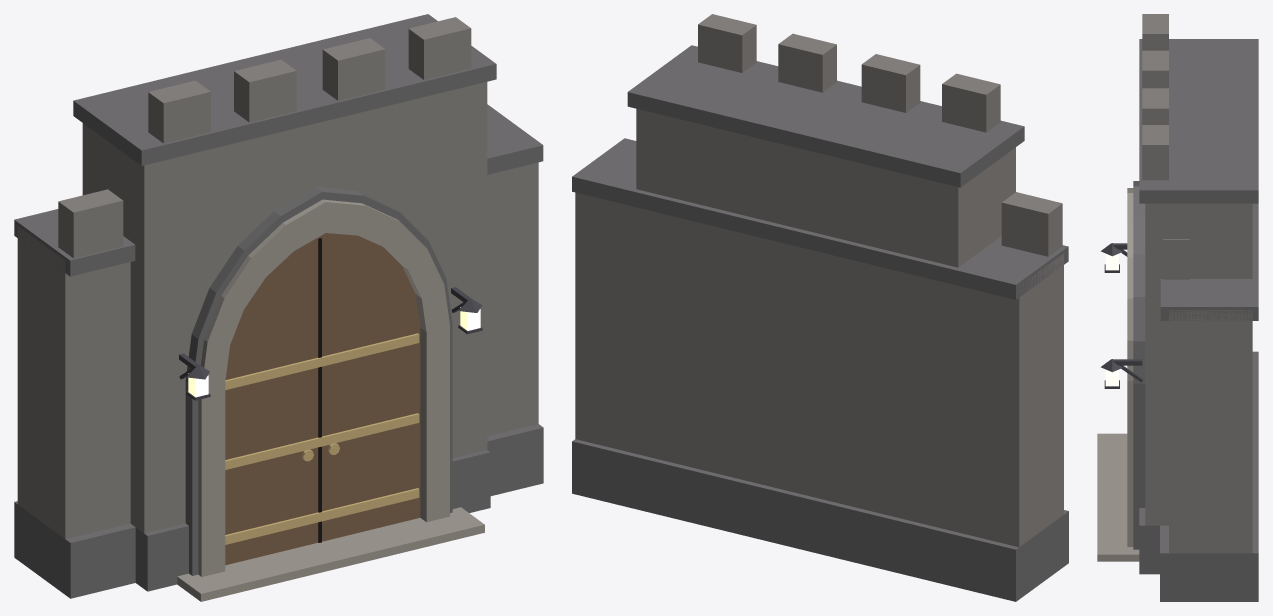
Rendered from curtain_portal.glb.
3 renders of one model, left to right at view 1: azimuth 30°, elevation 25°; view 2: azimuth 150°, elevation 25°; view 3: azimuth 270°, elevation 25°, orthographic. The views are drawn at different scales.
Visible parts, largest first — view 1: Upper, Plinth; view 2: Upper, Plinth; view 3: Upper, Plinth.
Part boxes in pixels (box(x1,y1,x2,y2)): Upper: box(14, 14, 543, 576); Plinth: box(14, 424, 543, 601); Upper: box(572, 14, 1068, 547); Plinth: box(572, 439, 1068, 601); Upper: box(1101, 14, 1258, 553); Plinth: box(1097, 351, 1258, 601).
Bounding box in the file's own units: 8 × 7.8 × 2.7.
